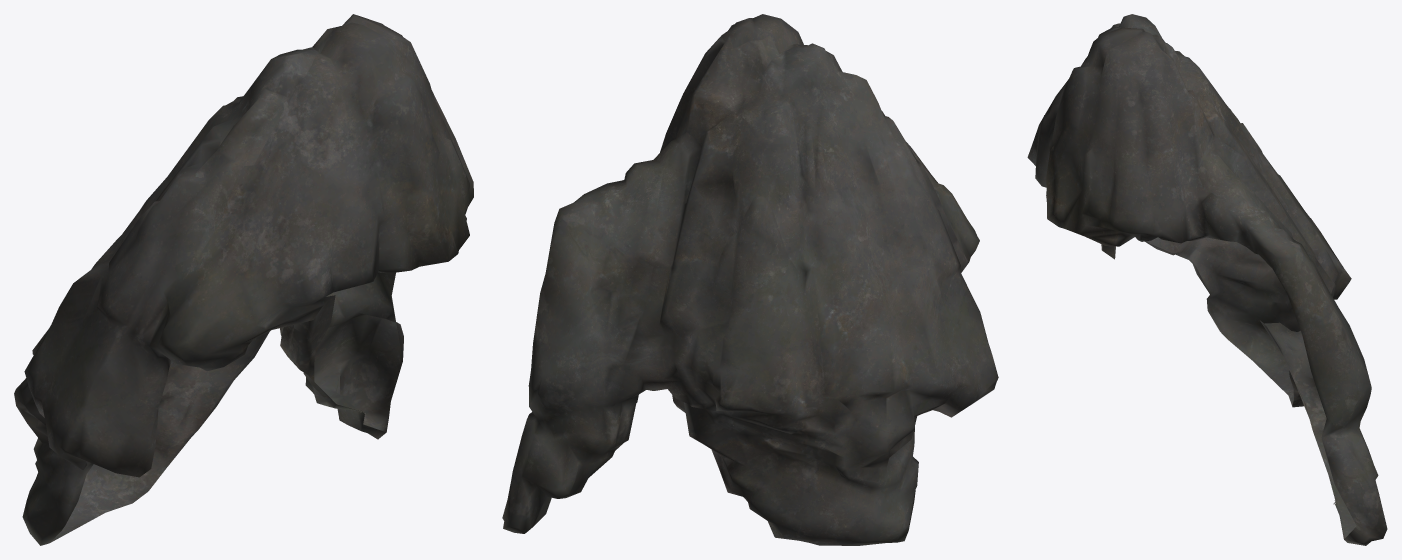
Rendered from Cliff_W2_02.fbx.
The picture shows the model from 3 angles, left to right: view 1: azimuth 30°, elevation 25°; view 2: azimuth 150°, elevation 25°; view 3: azimuth 270°, elevation 25°; orthographic projection. The views are drawn at different scales.
Parts seen in each view (by area): view 1: SM_W2_Cliff_02.mo; view 2: SM_W2_Cliff_02.mo; view 3: SM_W2_Cliff_02.mo.
Part boxes in pixels (x1,y1,x2,y2): SM_W2_Cliff_02.mo: (14, 14, 473, 545); SM_W2_Cliff_02.mo: (502, 14, 998, 545); SM_W2_Cliff_02.mo: (1027, 14, 1387, 545).
Size of the model in its own units: 3540 by 4020 by 2896.
Materials: 1 (1 with a texture image).
